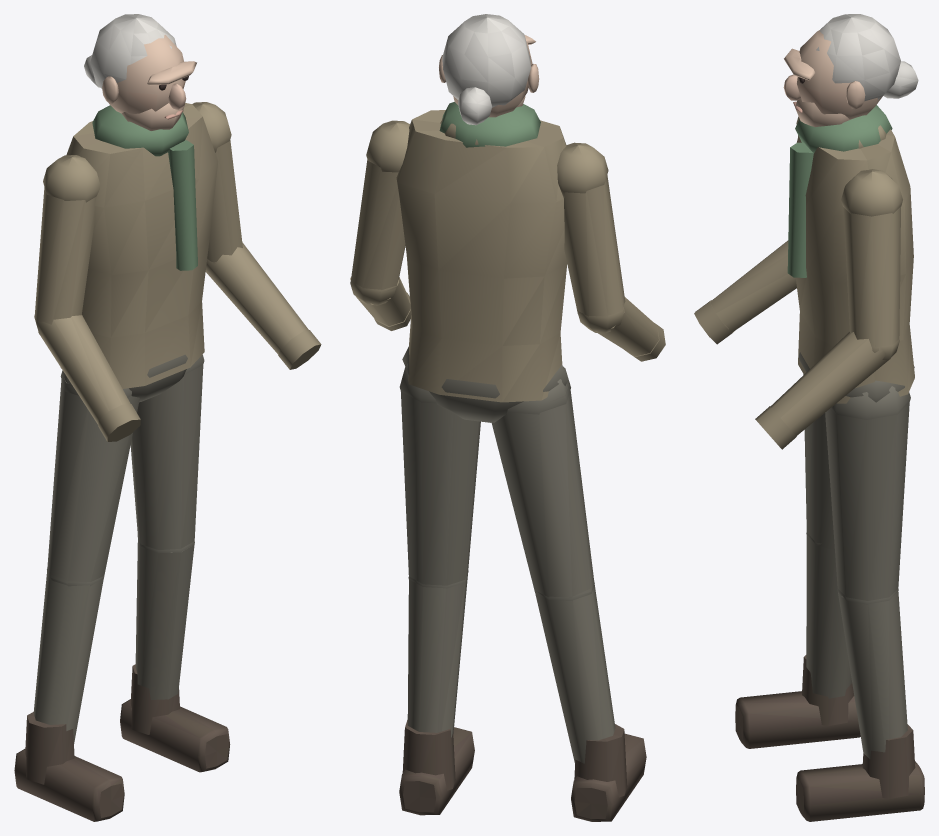
The model's file is crowd_stand_a_d.glb.
3 views of the same model, side by side, from view 1: azimuth 30°, elevation 25°; view 2: azimuth 150°, elevation 25°; view 3: azimuth 270°, elevation 25° (orthographic). The views are drawn at different scales.
Parts seen in each view (by area): view 1: body; view 2: body; view 3: body.
Boxes of the visible parts, box(x1,y1,x2,y2) form: body: box(14, 14, 321, 821); body: box(350, 14, 665, 821); body: box(694, 14, 924, 821).
Bounding box in the file's own units: 0.6457 × 1.73 × 0.4687.
